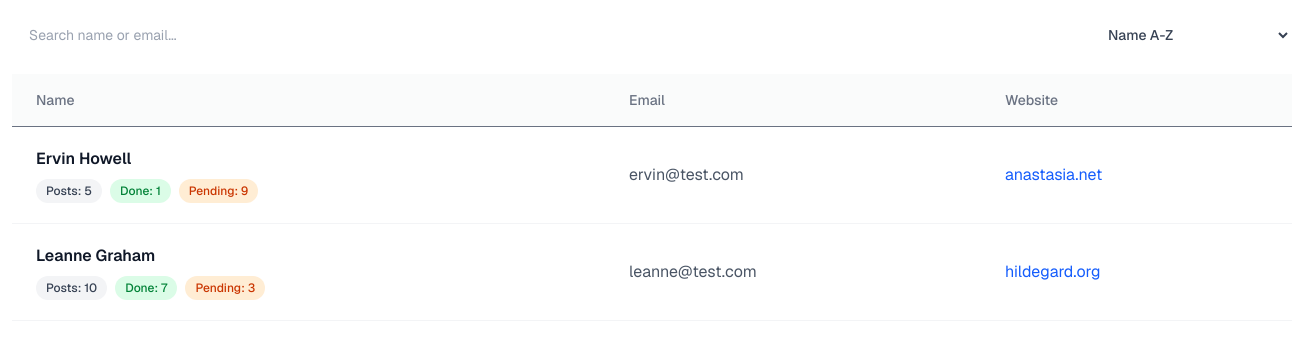
Test case: UsersTable › filters users by search
The width and height of the screenshot is (1304, 338).
Type "ervin" into the field with placeholder "Search name or email..." at (204, 35), box [12,12,396,58]
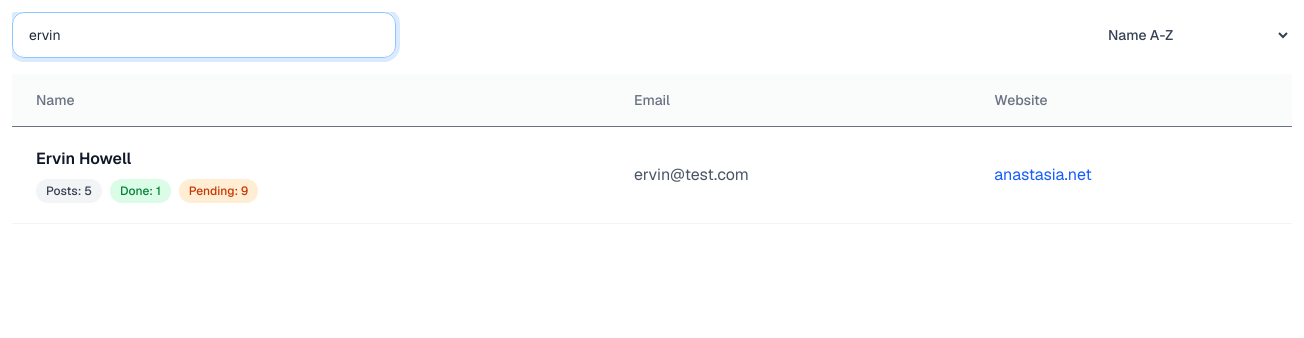
Expected: the text "Ervin Howell" is shown, [36,148,131,169]
Expected: the text "Leanne Graham" is gone
